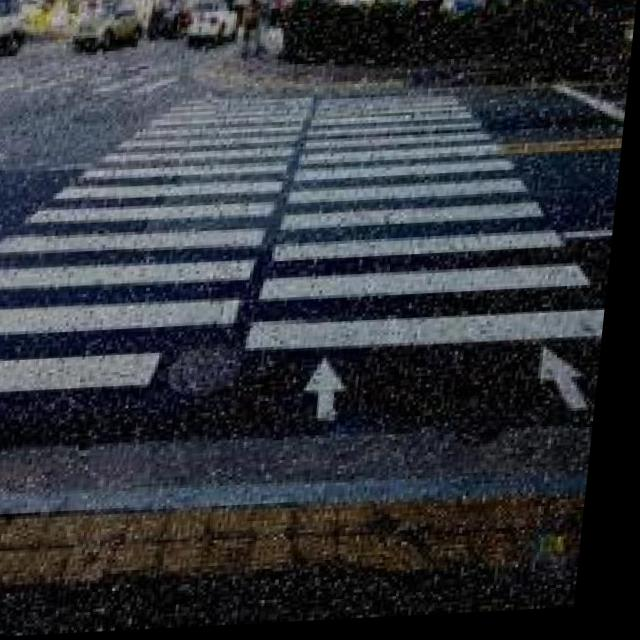zebra: (0, 74, 629, 403), (0, 54, 184, 104)
